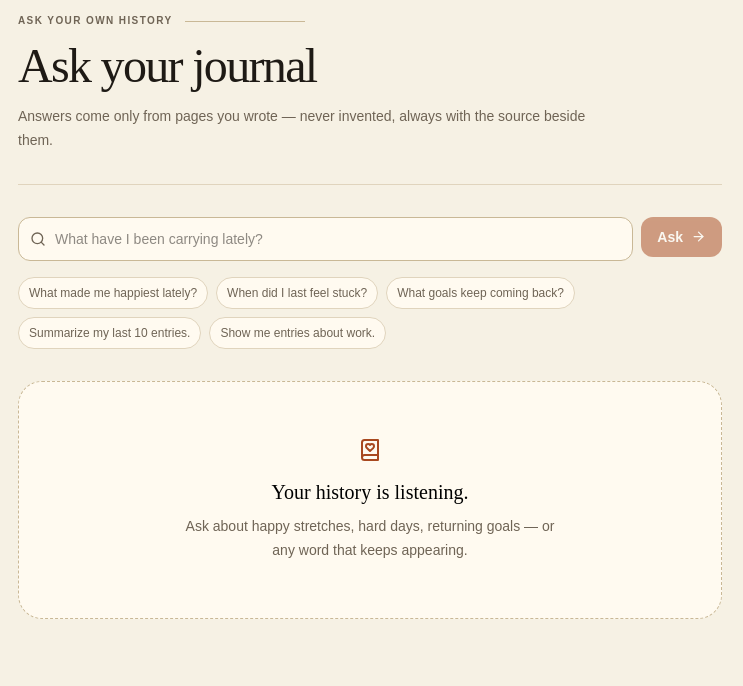
Scenario: Ask My Journal › answers with grounded source links and an on-device note
Type "What made me happiest?" into the field with test id "ask-input".
click(326, 239); type("What made me happiest?")  # box left=18, top=217, right=633, bottom=261
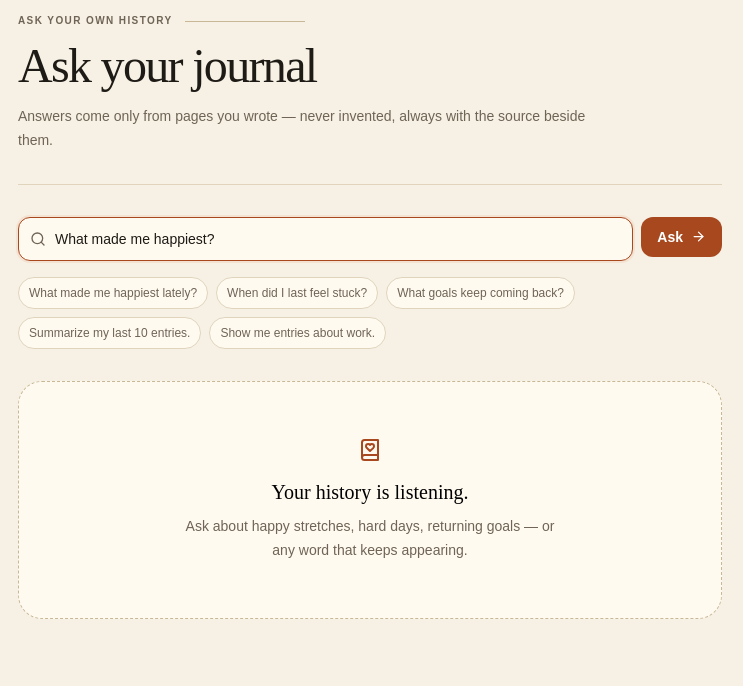
Click the button with test id "ask-submit-button".
click(682, 237)  # box left=641, top=217, right=722, bottom=257
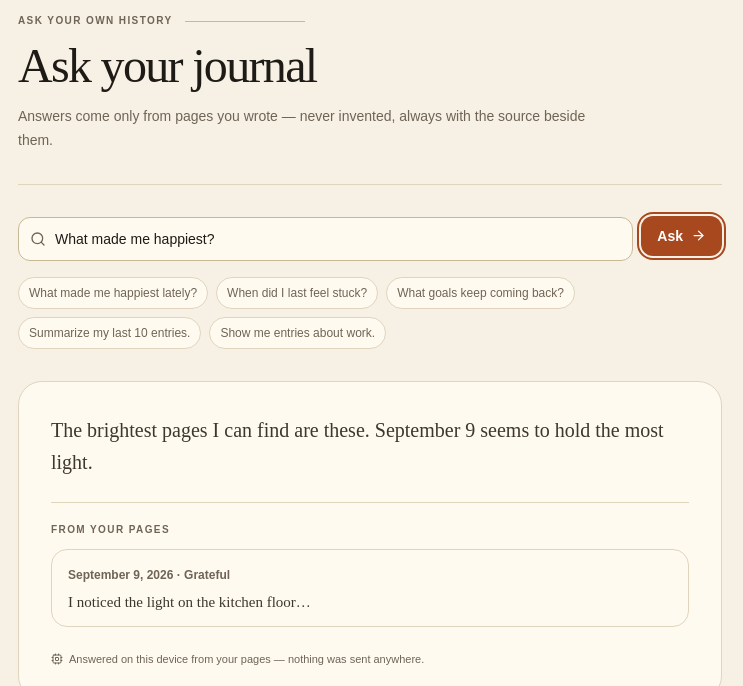
Expected: the text with test id "ask-answer" shows "brightest", left=51, top=419, right=664, bottom=473
Expected: the text with test id "ask-sources-heading" reads "From your pages", left=51, top=524, right=170, bottom=535
Expected: the element with test id "ask-source-note" shows "nothing was sent anywhere", left=271, top=653, right=424, bottom=665
